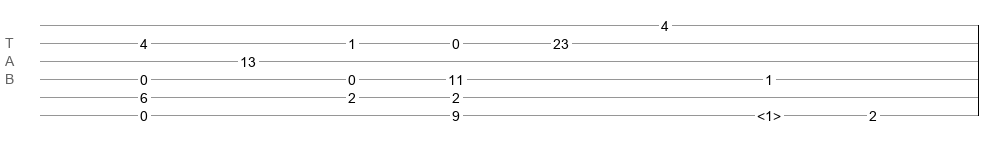0: (140, 108, 148, 118), (140, 72, 148, 82), (348, 72, 356, 82), (452, 36, 460, 46)
1: (348, 36, 356, 46), (765, 72, 773, 82)
11: (448, 72, 464, 82)
13: (240, 54, 256, 64)
2: (348, 90, 356, 100), (452, 90, 460, 100), (869, 108, 877, 118)
23: (553, 36, 569, 46)
4: (140, 36, 148, 46), (661, 18, 669, 28)
6: (140, 90, 148, 100)
9: (452, 108, 460, 118)
harmonic: (757, 108, 781, 118)
